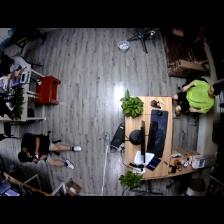normal: (20, 132, 82, 169), (174, 78, 218, 118), (2, 52, 35, 80)
